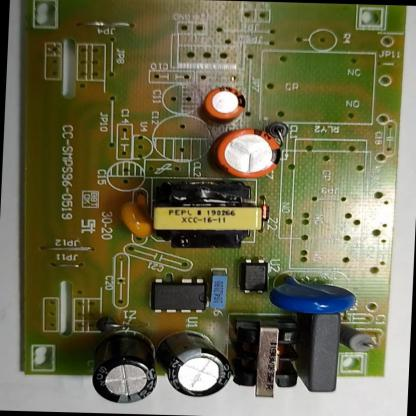Cap1: (214, 123, 284, 181)
Cap2: (201, 83, 253, 124)
Cap3: (158, 330, 232, 401)
Cap4: (90, 330, 160, 405)
MOSFET: (146, 276, 209, 316)
Mov: (268, 272, 360, 318)
Resistor: (335, 322, 380, 353)
Transformer: (149, 178, 266, 252), (230, 313, 304, 399)
